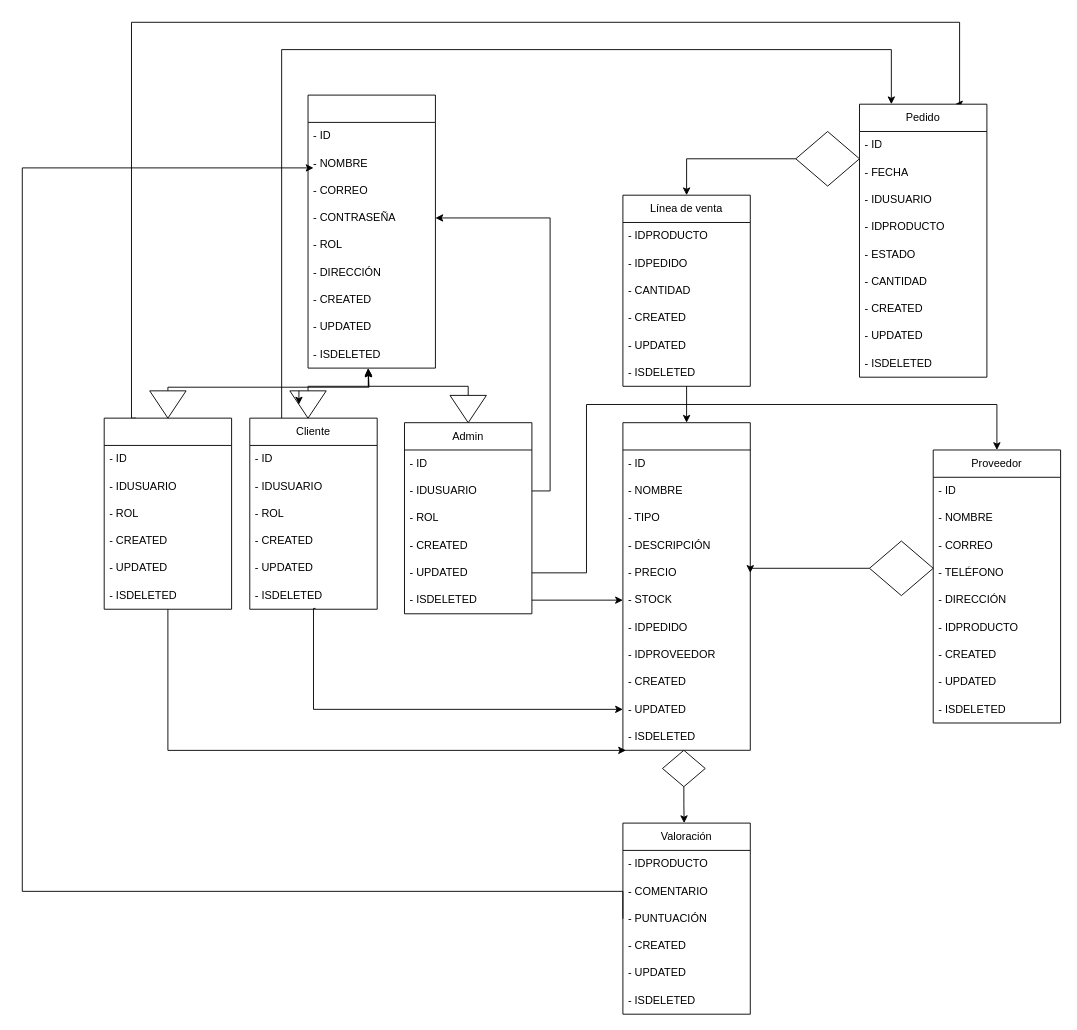
Some shapes in this 1077 by 1030 pixel diagram are drawn without their labels. The box of each missing label's shape, as (x1, y1, x2, y2) in pixels:
Producto: (622, 422, 750, 750)
Trabajador: (103, 417, 232, 609)
Usuario: (307, 94, 435, 368)
